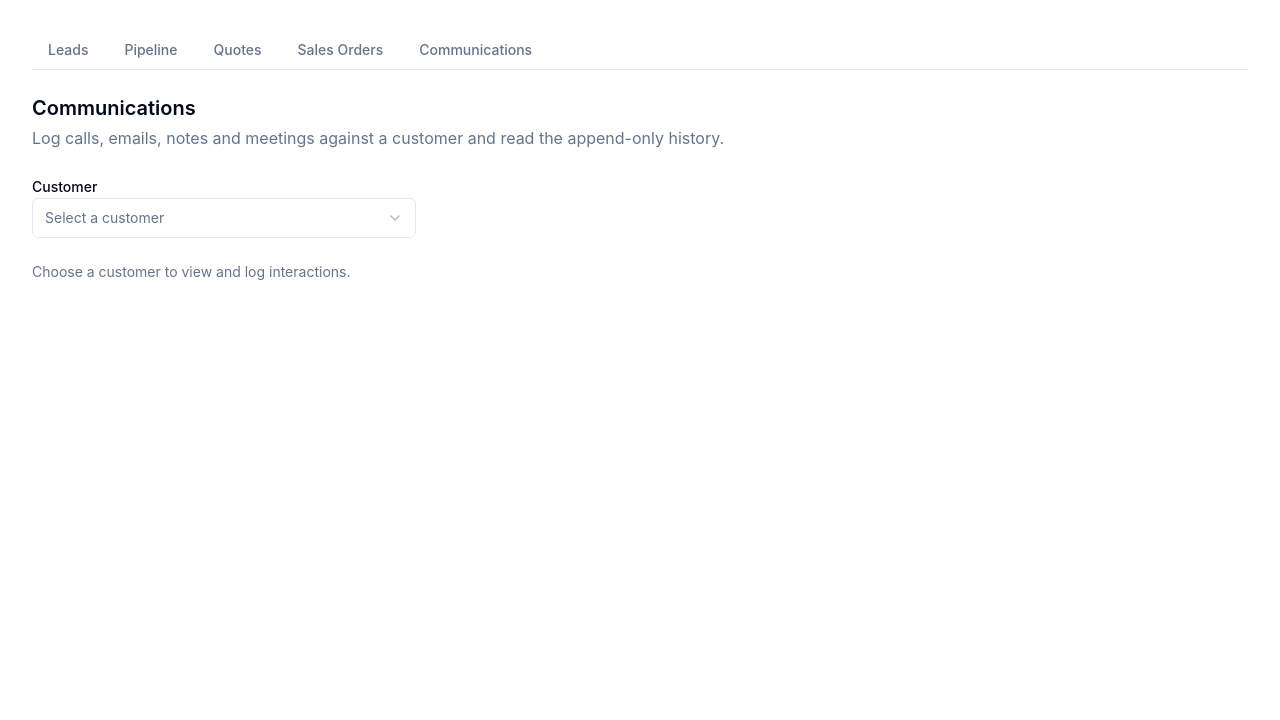
Communications screen › renders the timeline newest-first with type, timestamp and body
This screenshot has width=1280, height=720.
Click the dropdown labelled "customer": (105, 218) x1=32 y1=198 x2=416 y2=238
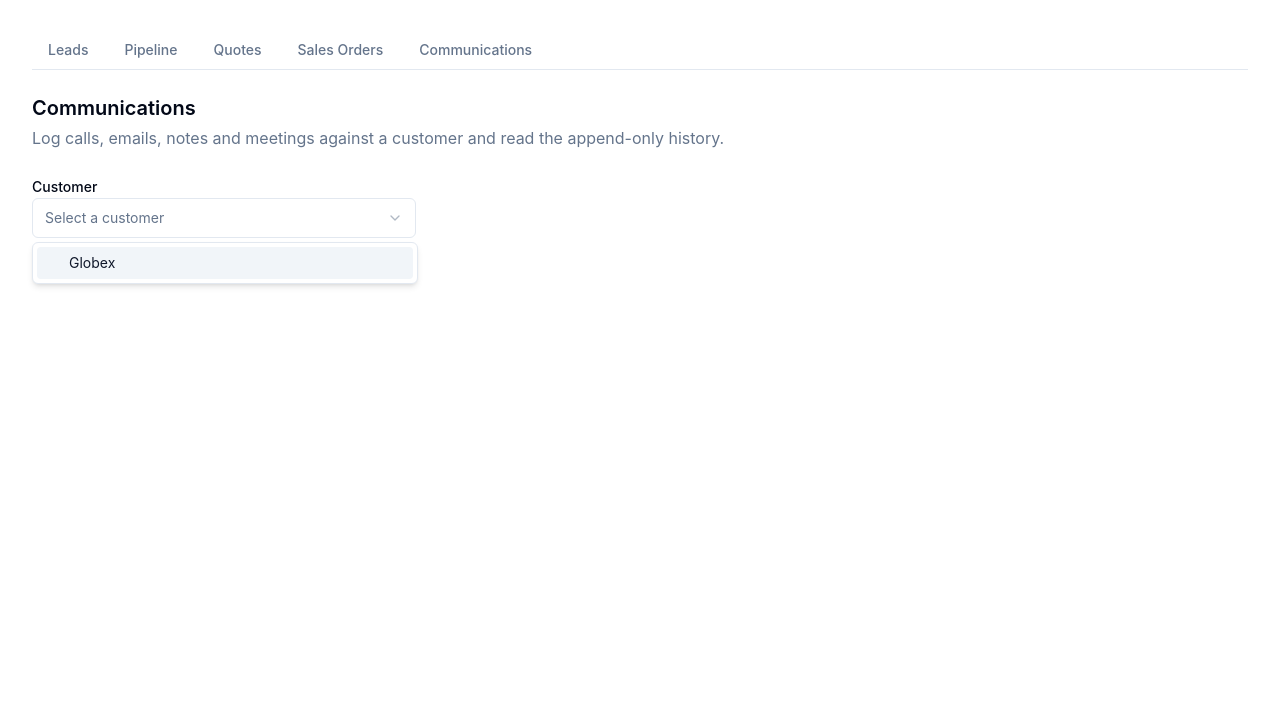
Click the option "Globex": (92, 262) x1=37 y1=247 x2=413 y2=279
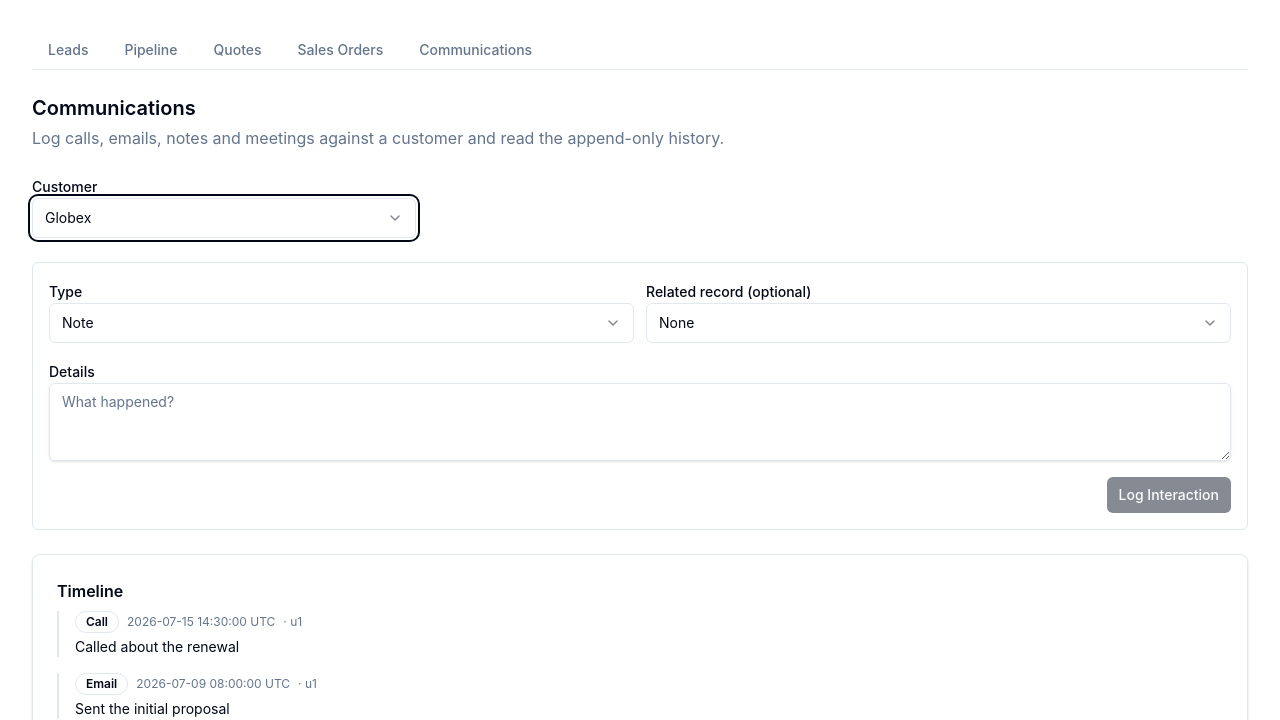
Result: the number of list items is 2 at x1=57 y1=611 x2=1223 y2=657; x1=57 y1=673 x2=1223 y2=719
Result: the text "Call" is shown at x1=75 y1=611 x2=119 y2=633
Result: the text "2026-07-15 14:30:00 UTC" is shown at x1=127 y1=614 x2=275 y2=630
